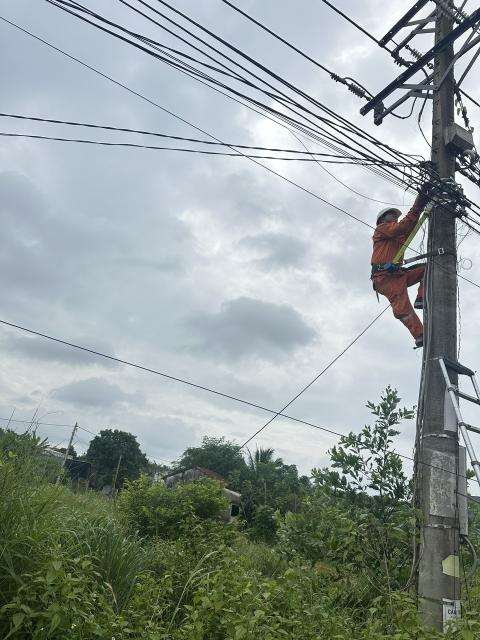gloves: (408, 165, 440, 223)
harness: (361, 259, 418, 277)
helmet: (377, 203, 405, 224)
shoes: (403, 332, 447, 352), (408, 291, 452, 311)
